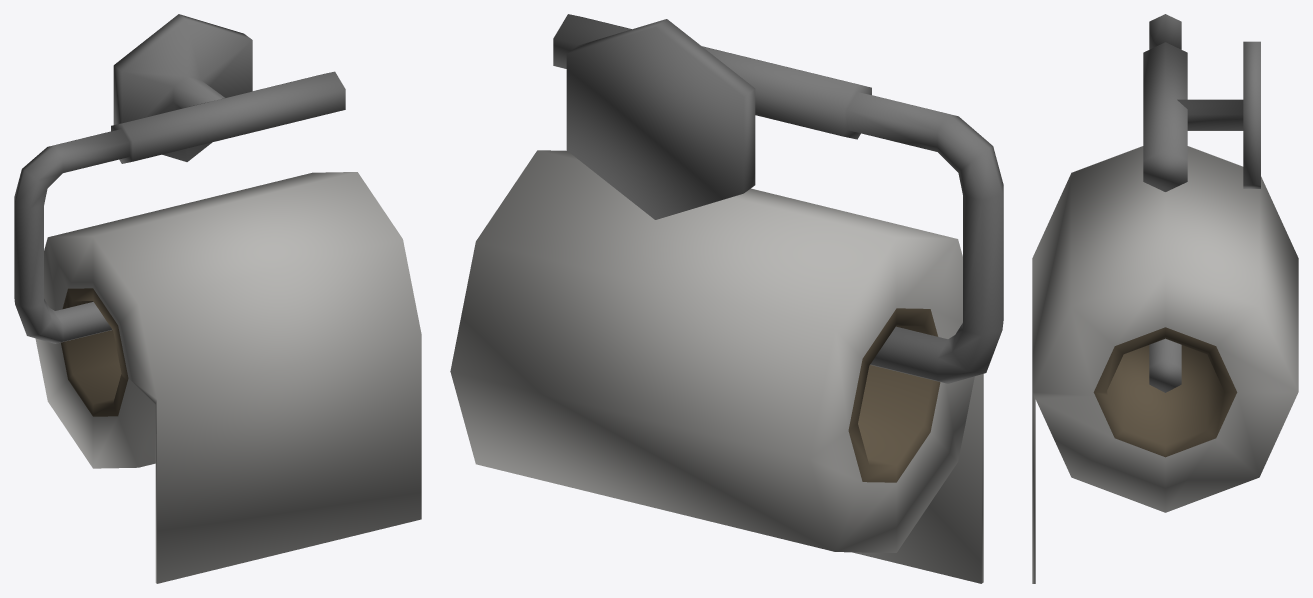
Rendered from Bathroom_ToiletPaper.glb.
3 views of the same model, side by side, from view 1: azimuth 30°, elevation 25°; view 2: azimuth 150°, elevation 25°; view 3: azimuth 270°, elevation 25° (orthographic). The views are drawn at different scales.
Parts seen in each view (by area): view 1: Bathroom_ToiletPaper; view 2: Bathroom_ToiletPaper; view 3: Bathroom_ToiletPaper.
Boxes of the visible parts, x1=… form: Bathroom_ToiletPaper: x1=14, y1=14, x2=421, y2=583; Bathroom_ToiletPaper: x1=450, y1=14, x2=1003, y2=583; Bathroom_ToiletPaper: x1=1032, y1=14, x2=1298, y2=583.
Bounding box in the file's own units: 0.2999 × 0.3444 × 0.1749.
